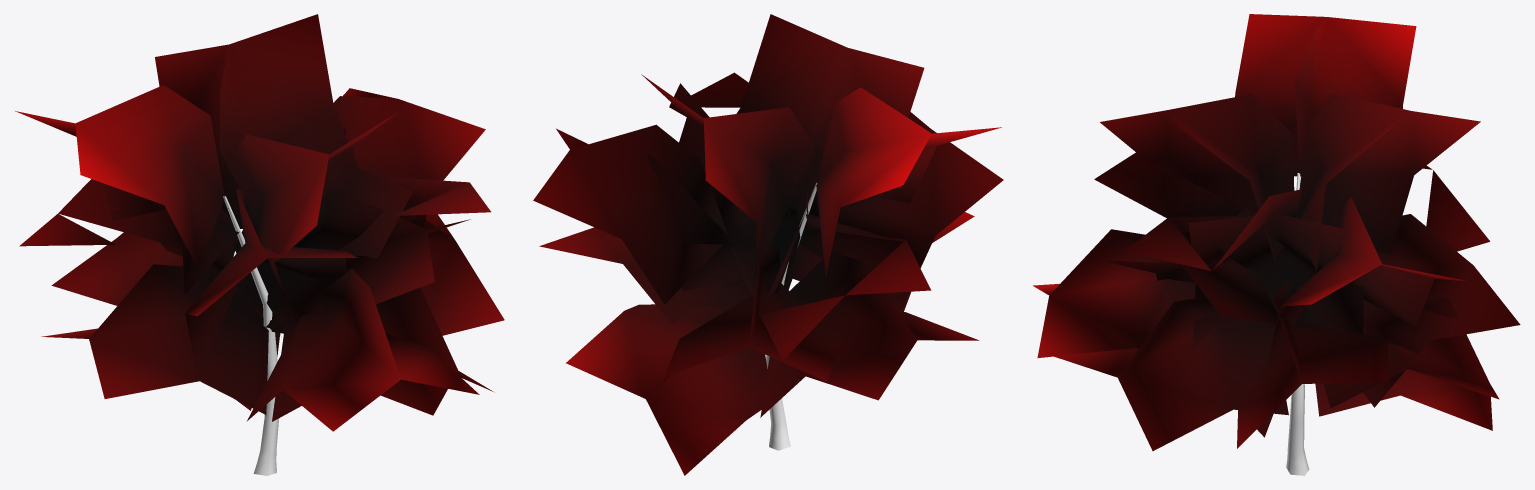
The model's file is baum ld1(enhanced) mod.fbx.
3 views of the same model, side by side, from view 1: azimuth 30°, elevation 25°; view 2: azimuth 150°, elevation 25°; view 3: azimuth 270°, elevation 25° (orthographic). The views are drawn at different scales.
Visible parts, largest first — view 1: baum_ld1_enhanced_; view 2: baum_ld1_enhanced_; view 3: baum_ld1_enhanced_.
Boxes of the visible parts, left/top/right/bottom form: baum_ld1_enhanced_: left=15, top=14, right=504, bottom=475; baum_ld1_enhanced_: left=533, top=14, right=1003, bottom=475; baum_ld1_enhanced_: left=1033, top=14, right=1520, bottom=475.
Bounding box in the file's own units: 1405 × 1244 × 1394.
